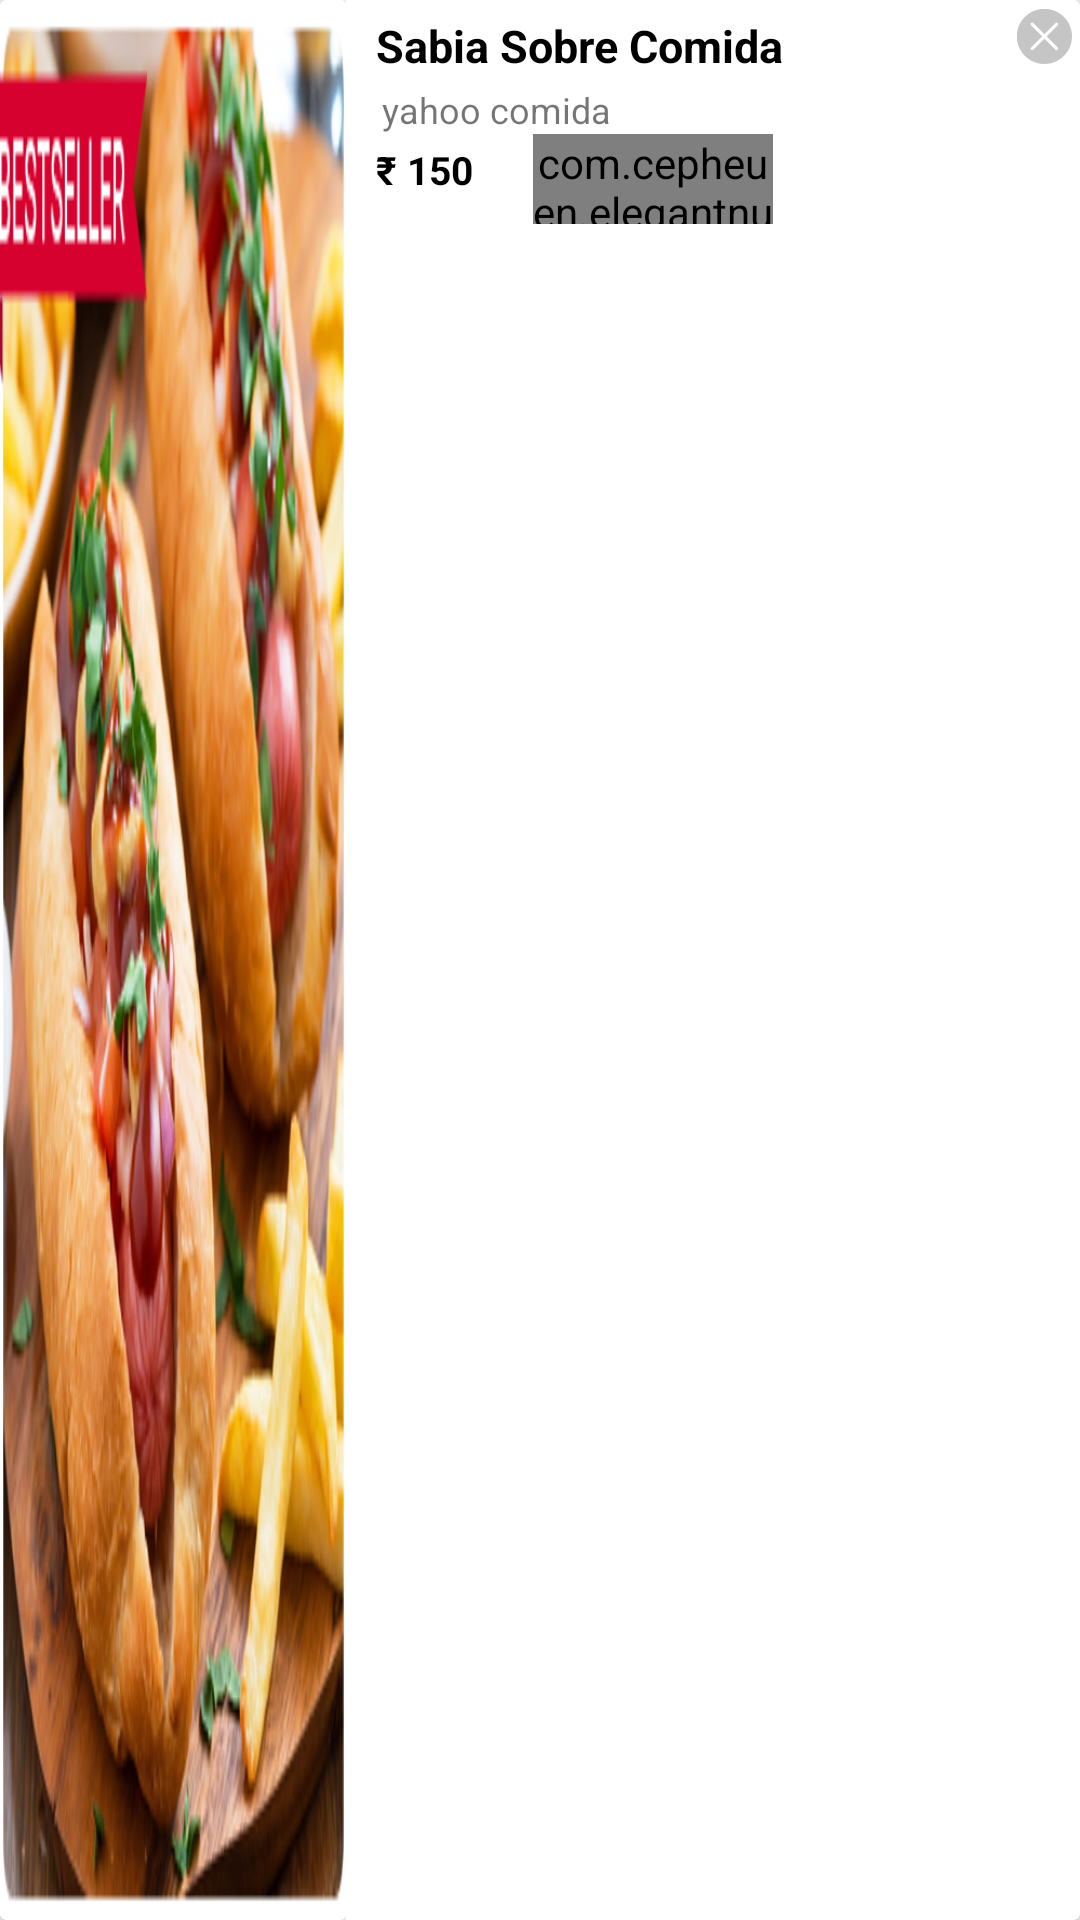

Screen size 1080 × 1920. Icon name, then its box in pixels as bbox(x1, y1, x2, y2):
delet: bbox(1017, 0, 1080, 64)
